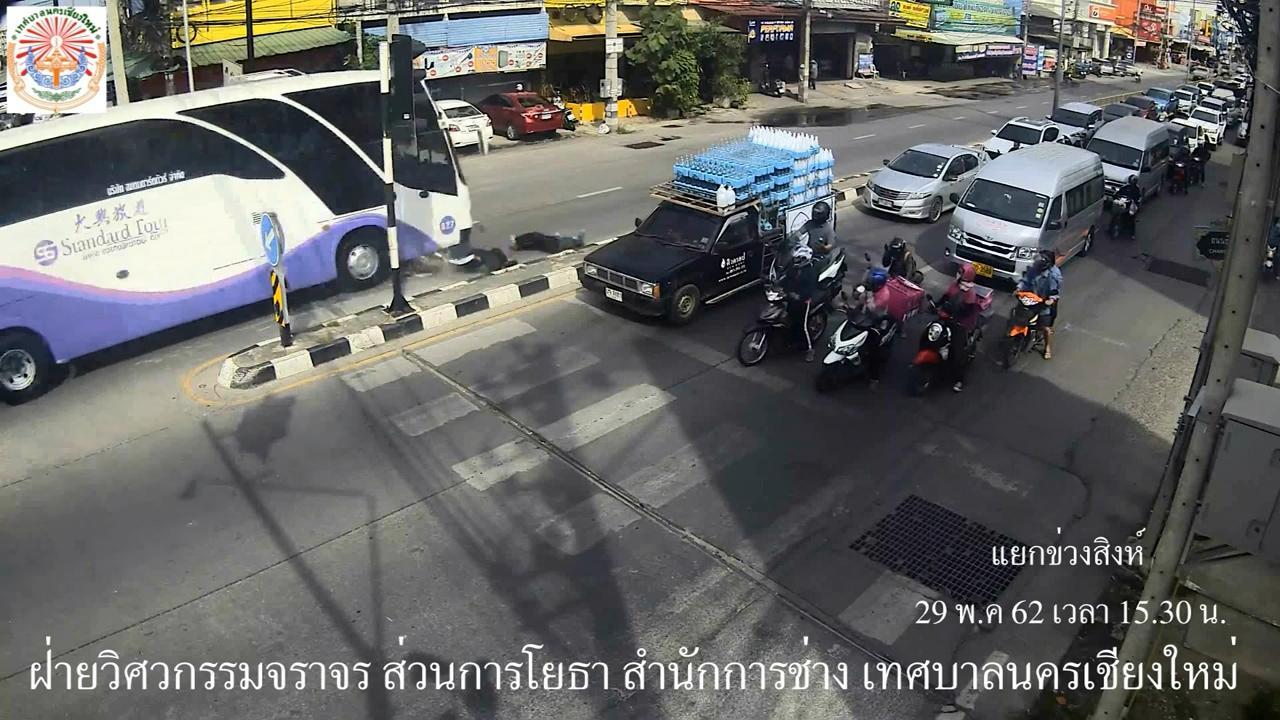accident: (505, 222, 595, 253)
